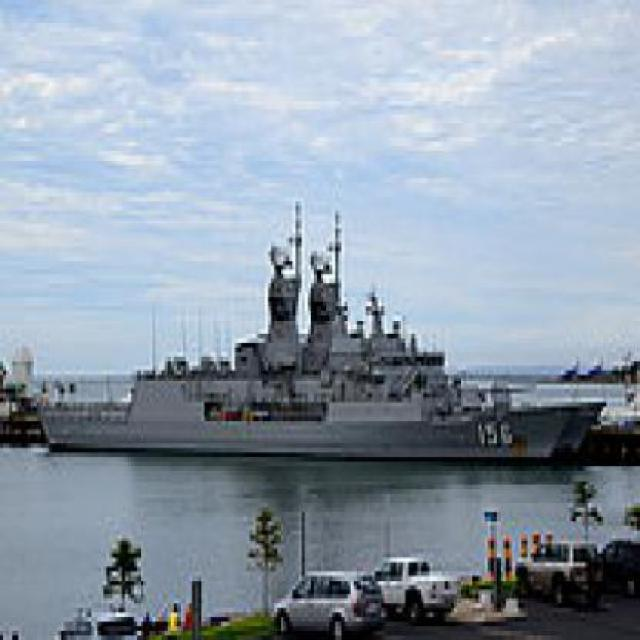warship2: (31, 193, 623, 473)
